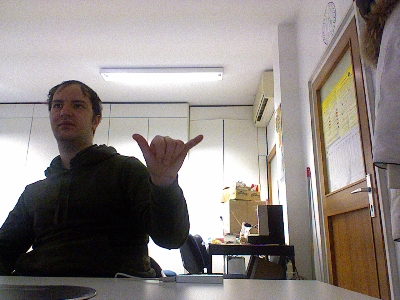六六六: (130, 132, 204, 187)
